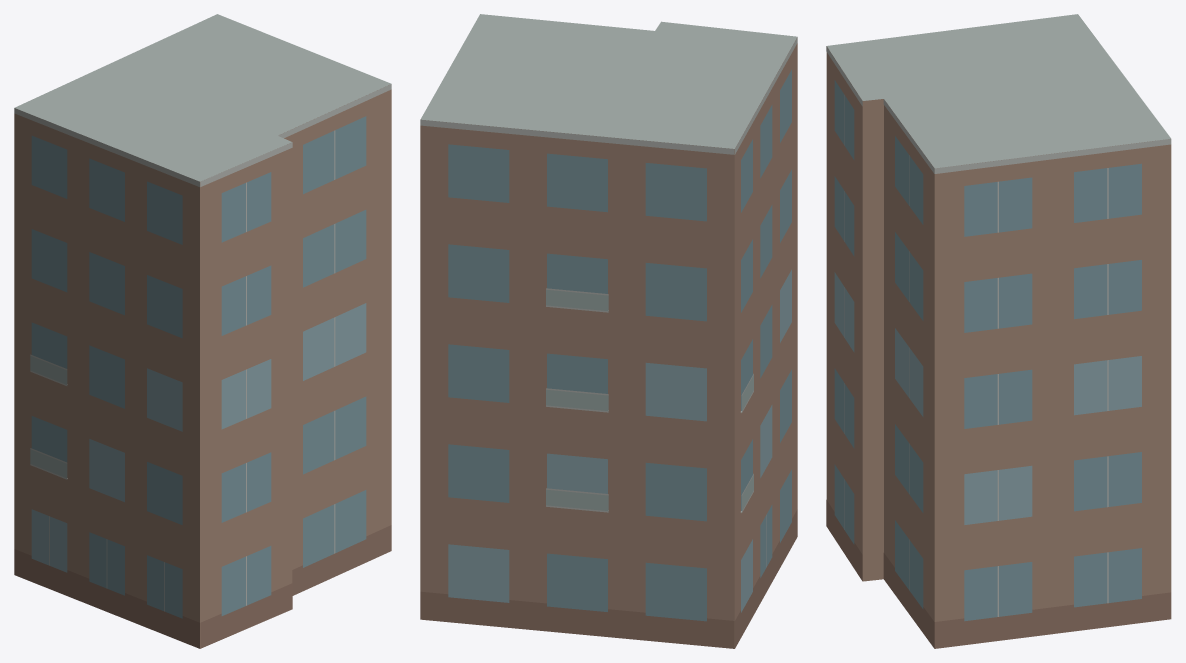
The model's file is survey-upis-32857905.glb.
The picture shows the model from 3 angles, left to right: view 1: azimuth 30°, elevation 25°; view 2: azimuth 150°, elevation 25°; view 3: azimuth 270°, elevation 25°; orthographic projection. The views are drawn at different scales.
Visible parts, largest first — view 1: survey-upis-32857905.tmp; view 2: survey-upis-32857905.tmp; view 3: survey-upis-32857905.tmp.
Part boxes in pixels (bbox=[...]): survey-upis-32857905.tmp: bbox=[14, 14, 391, 648]; survey-upis-32857905.tmp: bbox=[420, 14, 797, 648]; survey-upis-32857905.tmp: bbox=[826, 14, 1171, 648].
Size of the model in its own units: 14.21 by 20.6 by 13.41.
